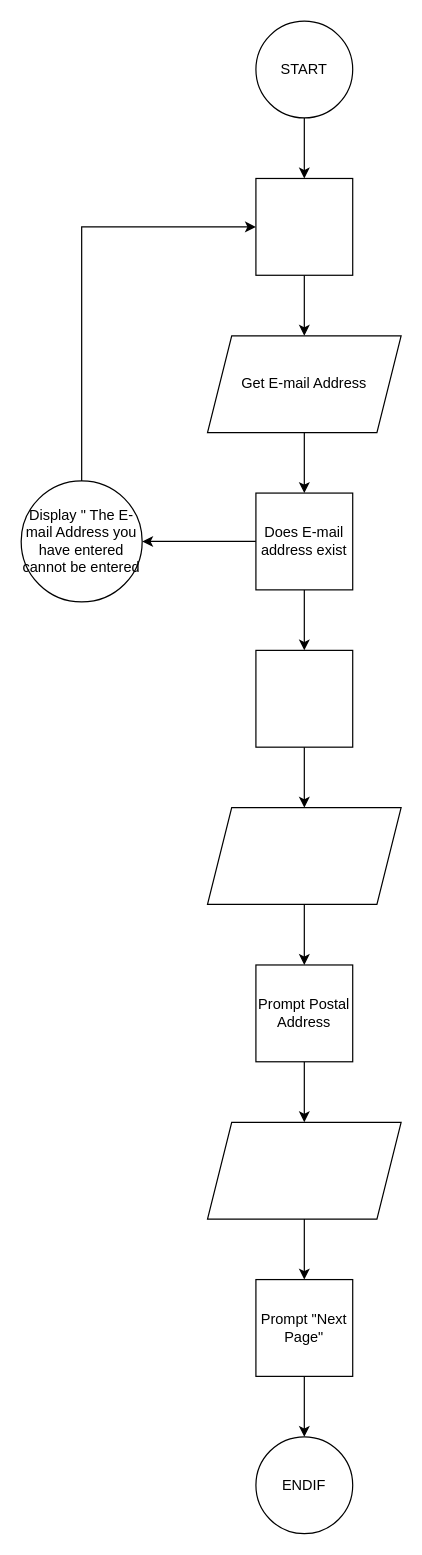
Image size: 422x1555. Some labels were removed from this diagram. The centre of each missing label's shape, as x and y in pixels:
"Get phone number" belongs at (x=303, y=855).
"Get Postal Address" belongs at (x=303, y=1170).
"Prompt E-mail Address" belongs at (x=304, y=226).
"Prompt phone number" belongs at (x=304, y=698).
